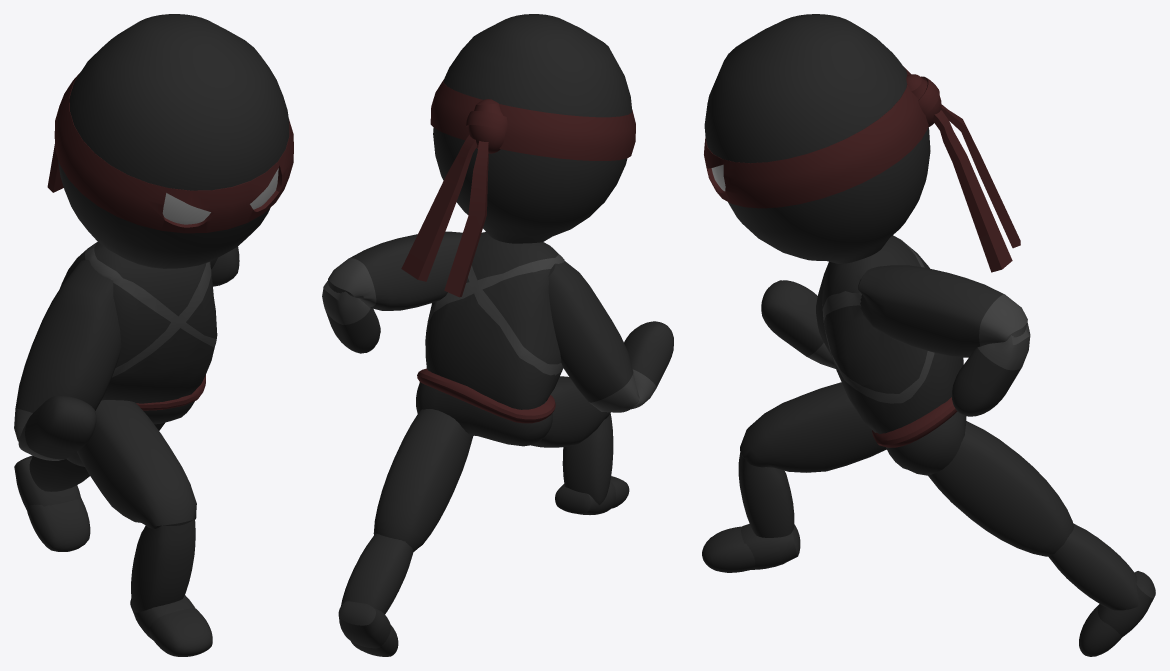
Rendered from ninja_running.fbx.
3 renders of one model, left to right at view 1: azimuth 30°, elevation 25°; view 2: azimuth 150°, elevation 25°; view 3: azimuth 270°, elevation 25°, orthographic. The views are drawn at different scales.
Visible parts, largest first — view 1: ninja_running; view 2: ninja_running; view 3: ninja_running.
Boxes of the visible parts, <box> form: ninja_running: <box>14,14,293,656</box>; ninja_running: <box>322,14,673,656</box>; ninja_running: <box>702,14,1155,656</box>.
Size of the model in its own units: 91.44 by 191 by 128.
